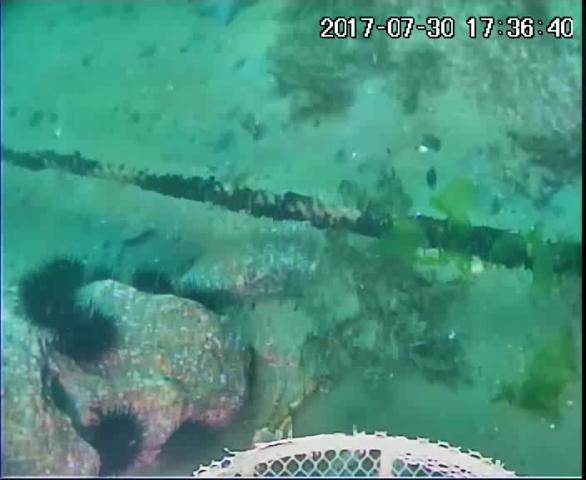echinus: (91, 405, 147, 475), (55, 308, 119, 367), (20, 269, 79, 332), (37, 252, 88, 296), (166, 421, 215, 465), (132, 267, 177, 296), (186, 287, 219, 313)
